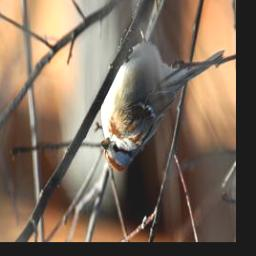Sparrow: (99, 30, 227, 175)
